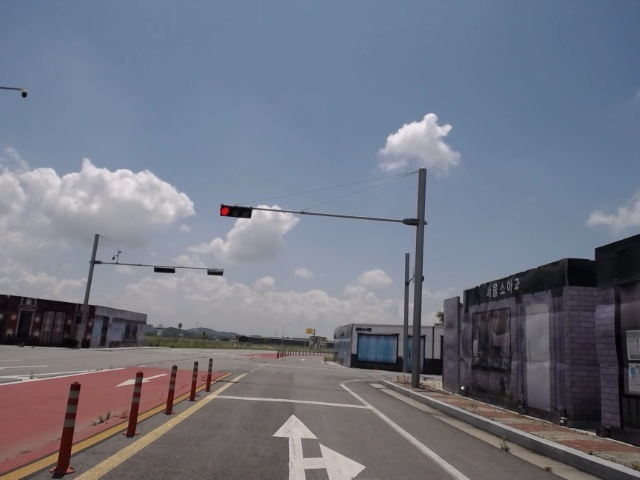red_3: (219, 203, 254, 219)
